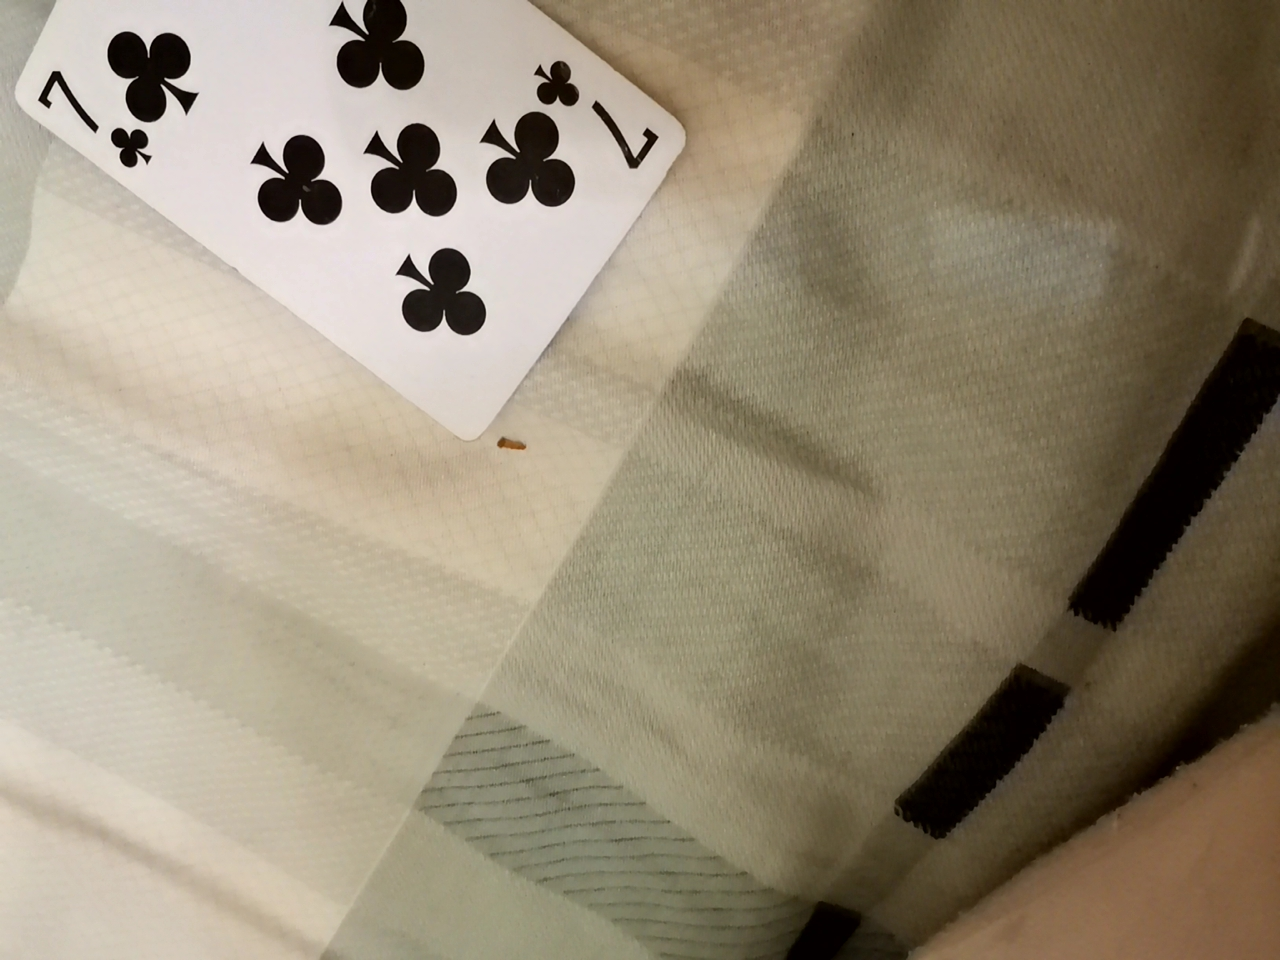mh 7: (5, 3, 678, 437)
